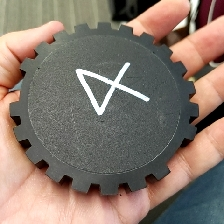gear: (7, 20, 201, 198)
missing: (151, 124, 198, 184), (10, 57, 36, 121)
